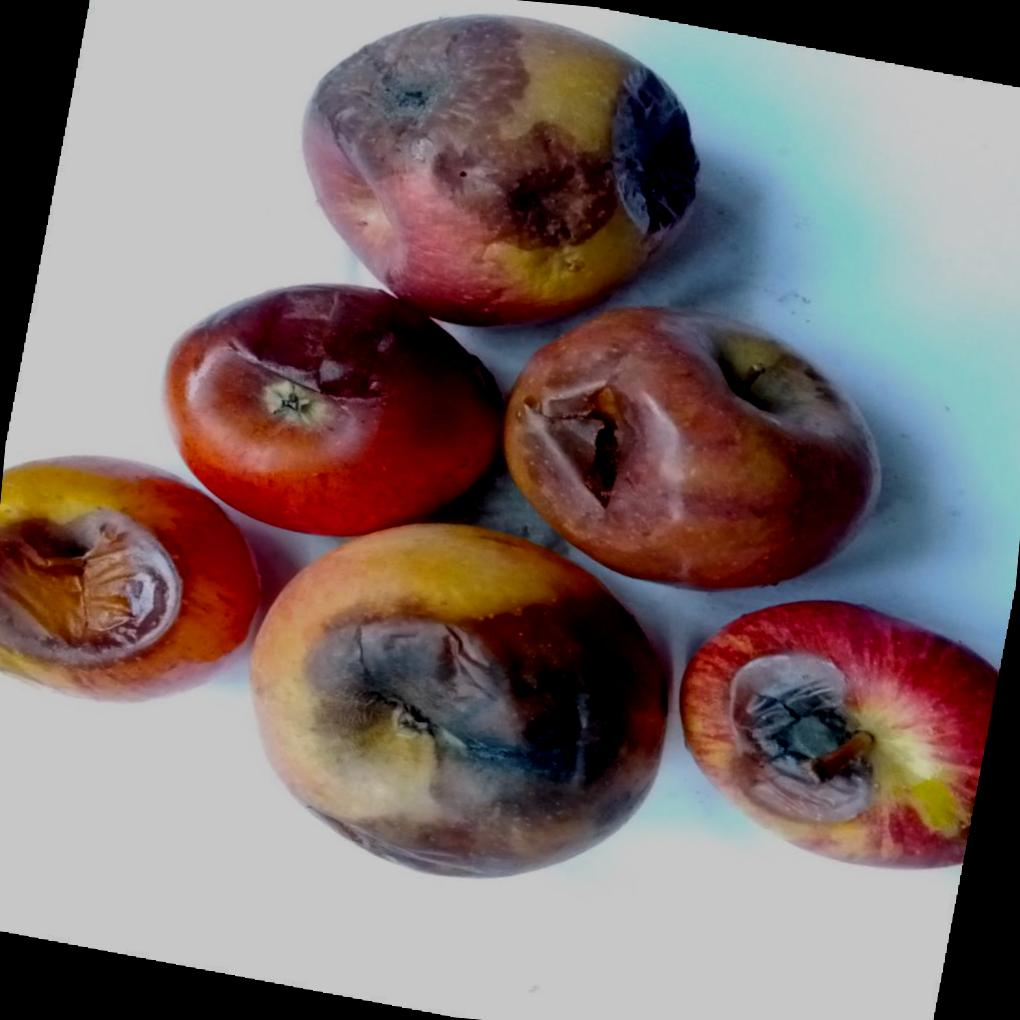FreshOrange: (0, 11, 879, 876), (671, 593, 998, 867)
